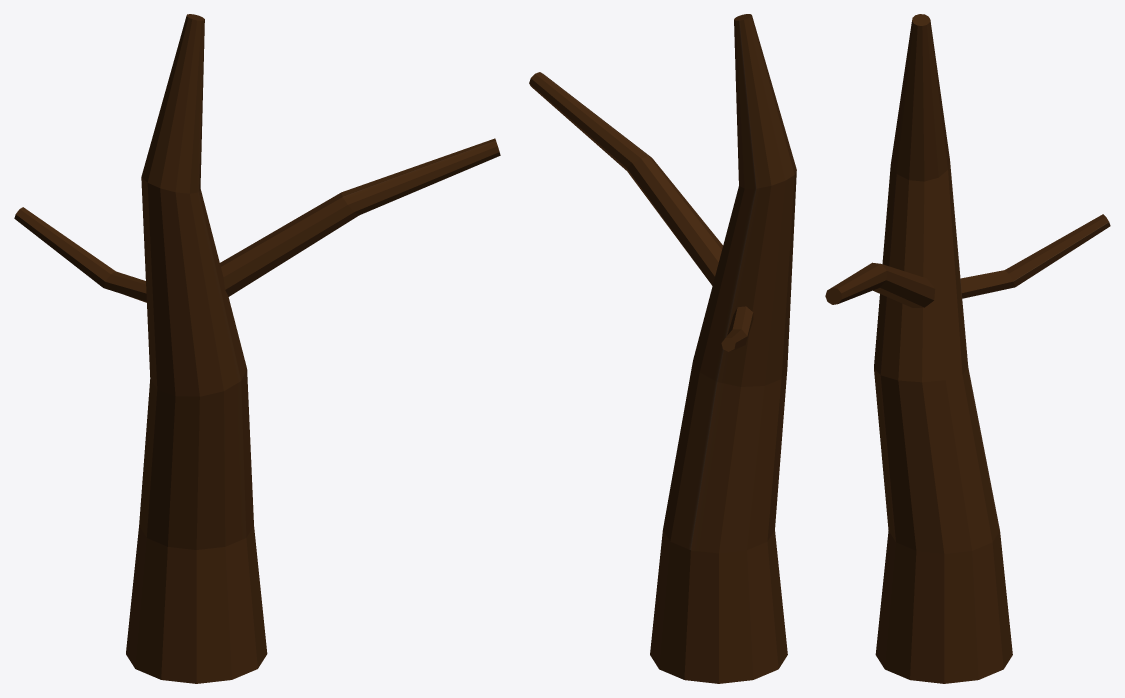
The model's file is Egg TREE FBX.fbx.
3 views of the same model, side by side, from view 1: azimuth 30°, elevation 25°; view 2: azimuth 150°, elevation 25°; view 3: azimuth 270°, elevation 25° (orthographic). The views are drawn at different scales.
Visible parts, largest first — view 1: Цилиндр; view 2: Цилиндр; view 3: Цилиндр.
Boxes of the visible parts, x1,y1,x2,y2 form: Цилиндр: (14, 14, 500, 683); Цилиндр: (529, 14, 796, 683); Цилиндр: (825, 14, 1110, 683).
Size of the model in its own units: 1426 by 2557 by 1048.
